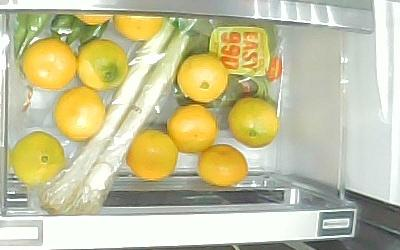tangerine: (12, 132, 65, 186), (21, 38, 77, 89), (54, 87, 105, 140), (77, 39, 128, 89), (127, 130, 177, 180), (229, 97, 278, 148), (178, 55, 226, 102), (167, 106, 216, 152), (199, 145, 247, 186), (113, 12, 165, 42)
